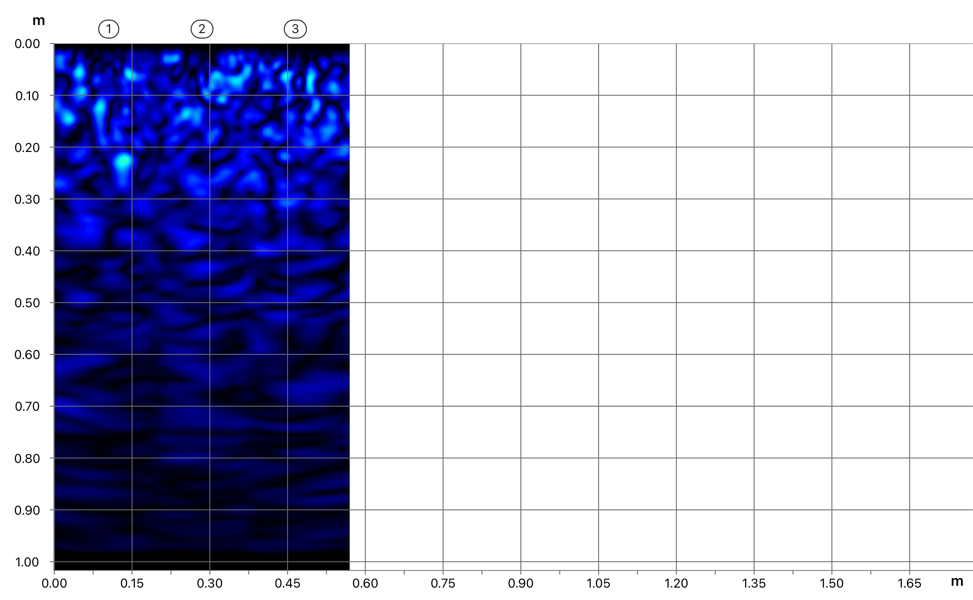crop: (0, 1, 352, 331)
